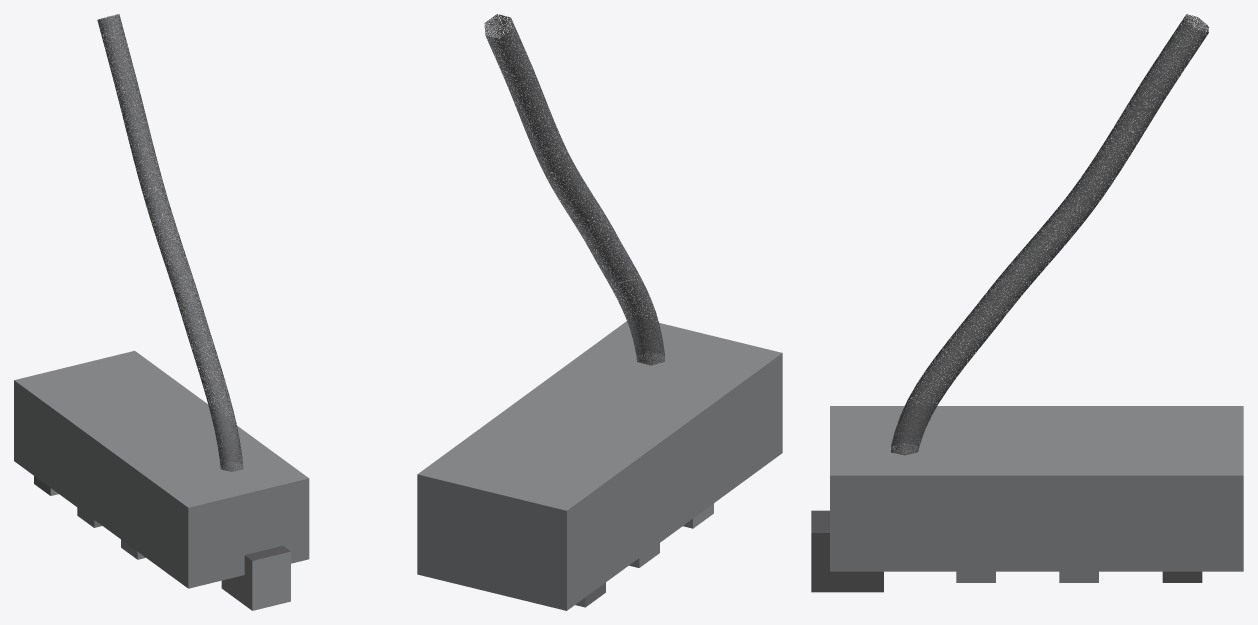
3 views of the same model, side by side, from view 1: azimuth 30°, elevation 25°; view 2: azimuth 150°, elevation 25°; view 3: azimuth 270°, elevation 25° (orthographic). The views are drawn at different scales.
Bounding box in the file's own units: 0.4186 × 0.8646 × 0.6012.
